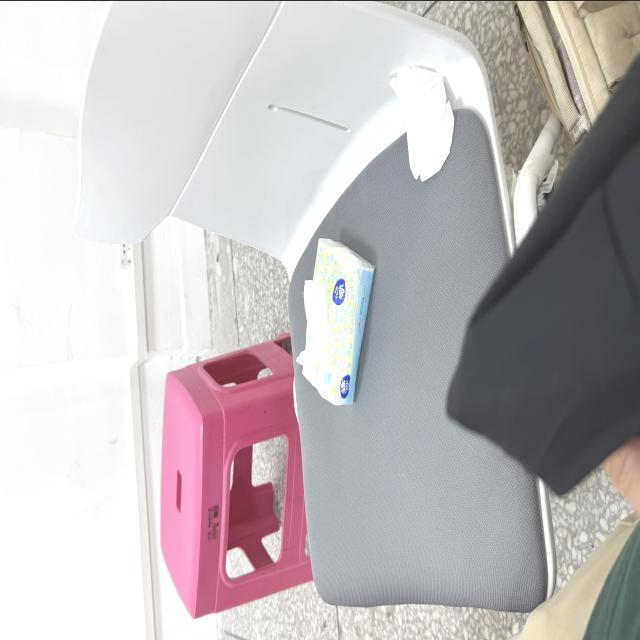tissue: (297, 238, 374, 403), (390, 65, 454, 179), (297, 280, 327, 377), (421, 101, 454, 179)
